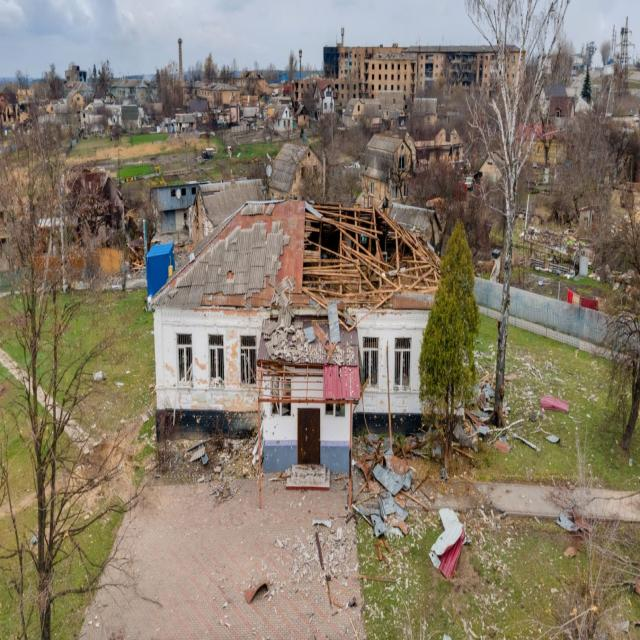broken_window: (393, 336, 411, 391), (176, 332, 193, 386), (362, 336, 379, 388), (208, 332, 224, 386), (240, 334, 256, 385)
building: (150, 195, 446, 458), (322, 42, 524, 116)
